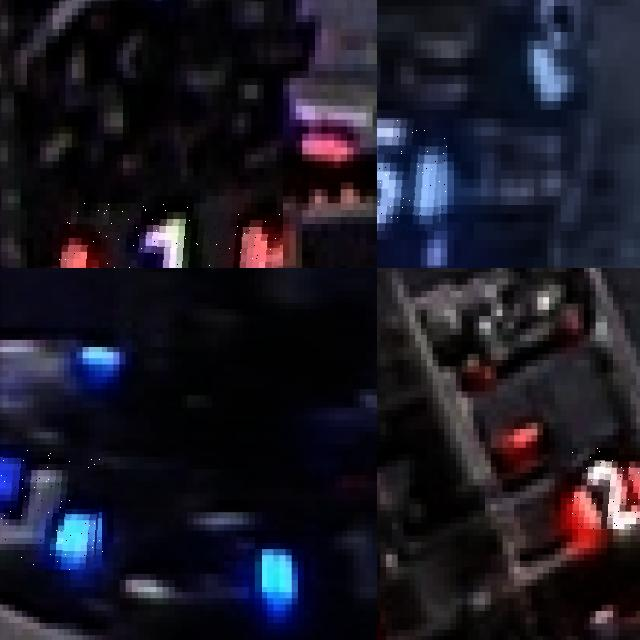B1: (242, 506, 377, 617), (0, 447, 104, 570)
B5: (377, 118, 447, 230)
R1: (59, 203, 283, 268)
R2: (572, 447, 640, 529)
